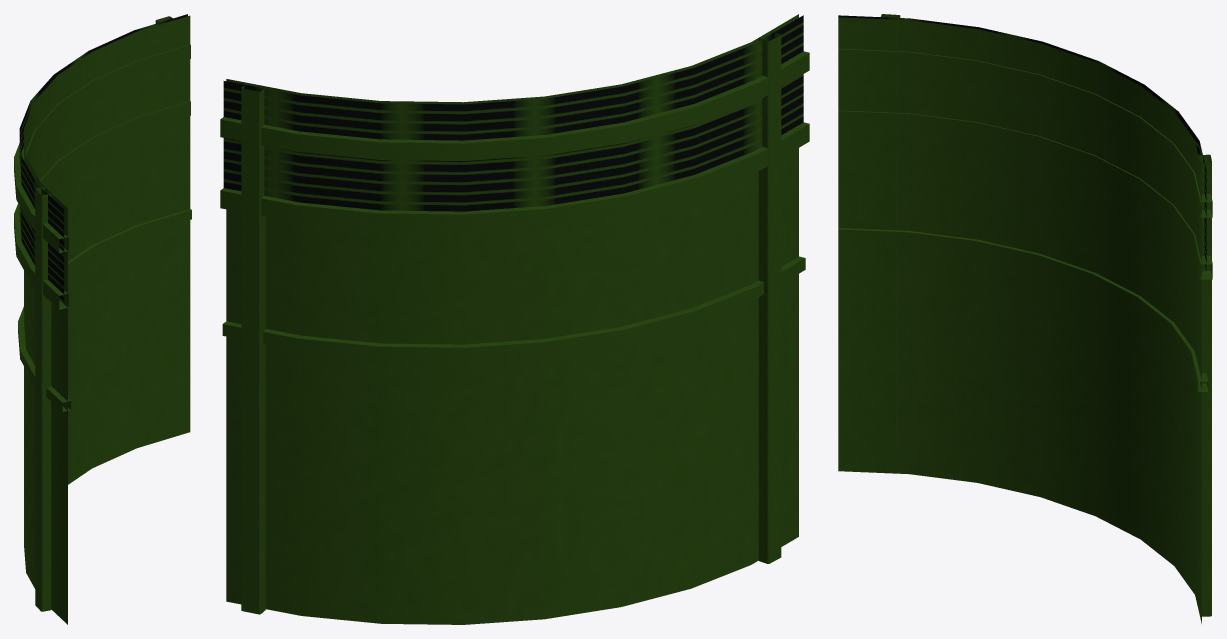
The model's file is cell_25.obj.
3 renders of one model, left to right at view 1: azimuth 30°, elevation 25°; view 2: azimuth 150°, elevation 25°; view 3: azimuth 270°, elevation 25°, orthographic. The views are drawn at different scales.
Visible parts, largest first — view 1: cell_25; view 2: cell_25; view 3: cell_25.
Part boxes in pixels (bbox=[...]): cell_25: bbox=[14, 14, 191, 624]; cell_25: bbox=[220, 14, 809, 624]; cell_25: bbox=[838, 14, 1212, 623].
Size of the model in its own units: 0.7481 by 1 by 0.7481.
